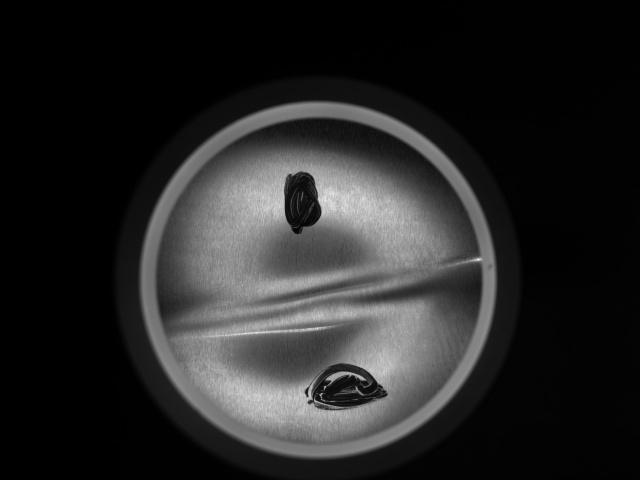zang_wu: (295, 357, 388, 412), (281, 170, 321, 239)
zhe_zhou: (194, 147, 439, 411)
